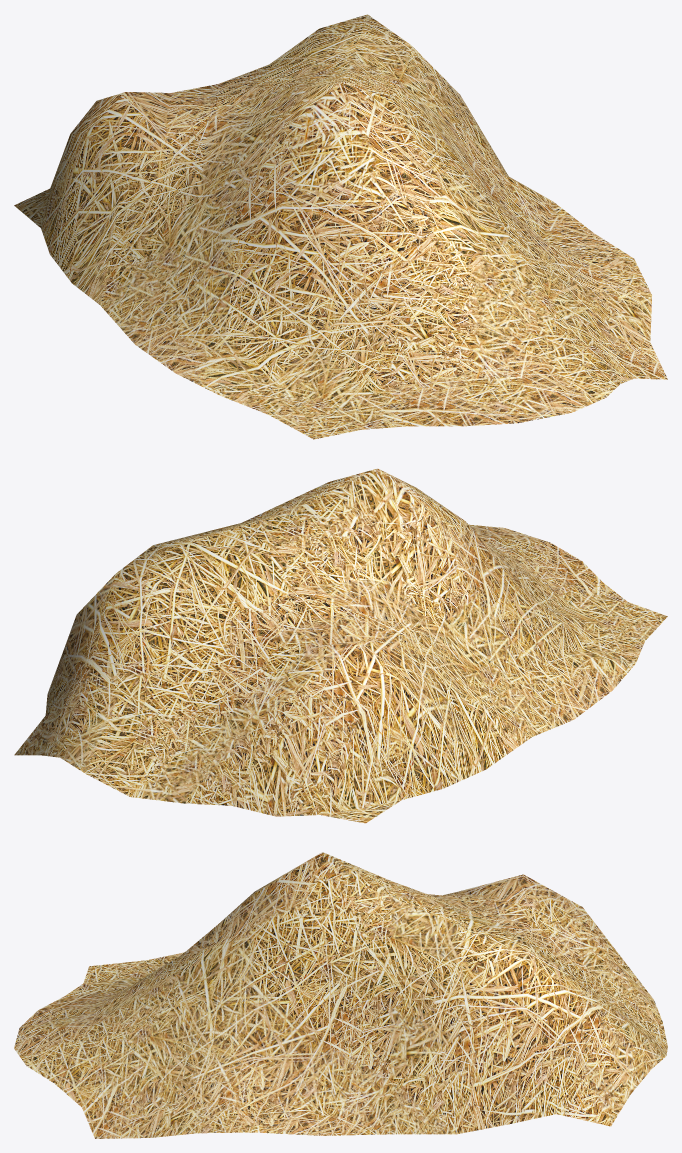
File: pila_heno.fbx
3 views of the same model, one above another, from view 1: azimuth 30°, elevation 25°; view 2: azimuth 150°, elevation 25°; view 3: azimuth 270°, elevation 25° (orthographic). The views are drawn at different scales.
Parts seen in each view (by area): view 1: pila_heno; view 2: pila_heno; view 3: pila_heno.
Part boxes in pixels (box(x1,y1,x2,y2)): pila_heno: box(14, 14, 667, 439); pila_heno: box(14, 468, 667, 823); pila_heno: box(14, 852, 667, 1138).
Bounding box in the file's own units: 200 × 102 × 292.
